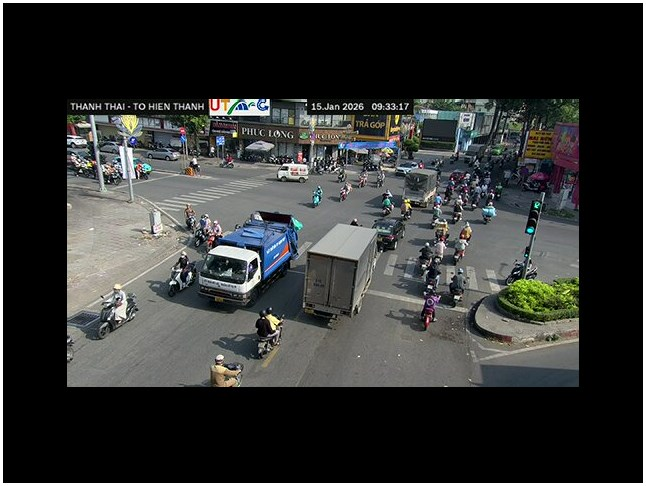car: (372, 217, 406, 252), (277, 163, 309, 183), (361, 171, 384, 187)
truck: (196, 210, 302, 307), (302, 220, 380, 327)
